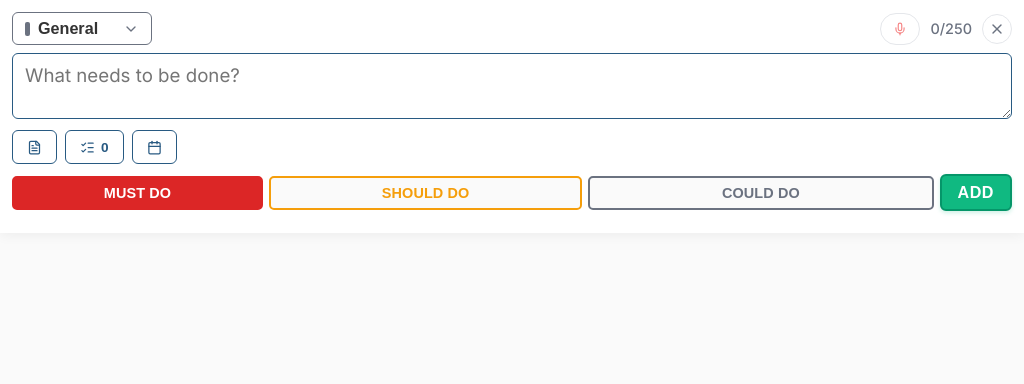
renders Next Day and Next Week buttons when schedule is toggled open
The width and height of the screenshot is (1024, 384).
Click the button named "schedule" at x=154, y=147, box [132,130,177,164]
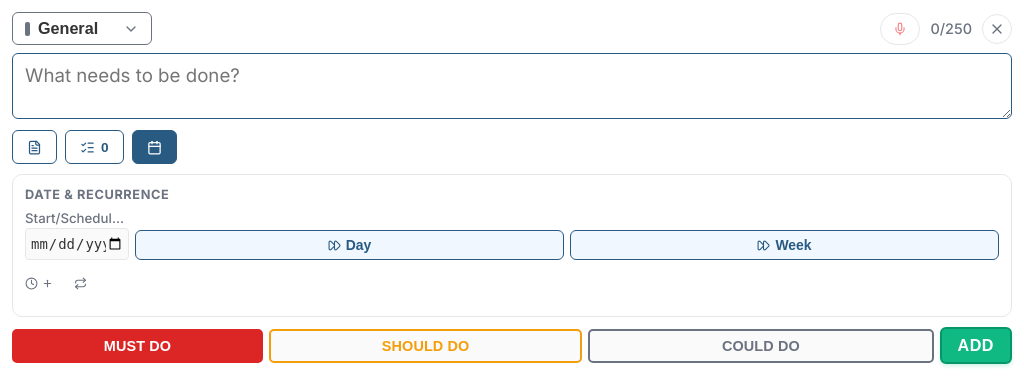
Expected: the button "Day" is shown, [135,230,564,260]
Expected: the button "Week" is shown, [570,230,999,260]
Expected: the date field labelled "Start/Scheduled Date" is shown, [25,228,129,260]
